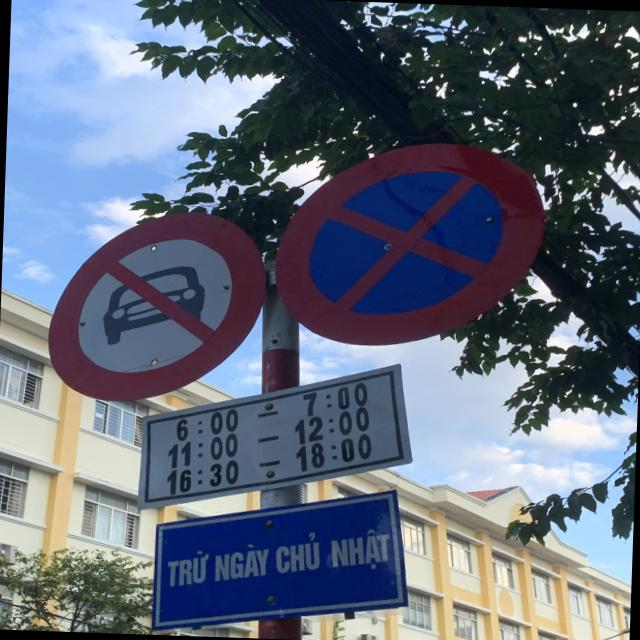Cam_Dung_Va_Dau_Xe: (268, 134, 550, 356)
Cam_O_To: (43, 205, 268, 406)
